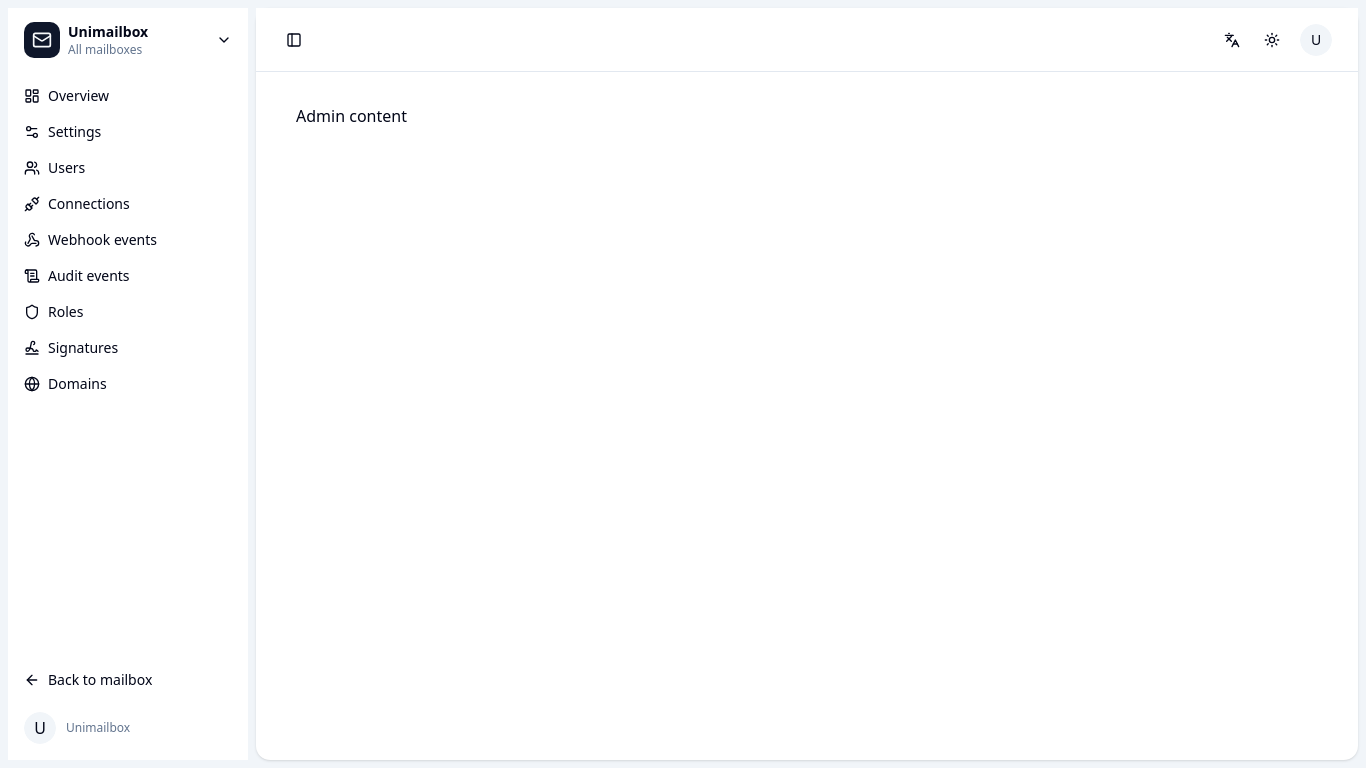
Scenario: application layouts (CAP-A2) › provides an independent admin navigation surface around page content
Expected: the text "Admin content" is shown, [296,105,407,127]
Expected: the navigation bar named "Administration navigation" is shown, [24,86,157,393]
What coordinates should you click on to do the following:
click the button named "Account menu"
I would click on:
 (1316, 40)
Its box is [1298,22,1334,58].
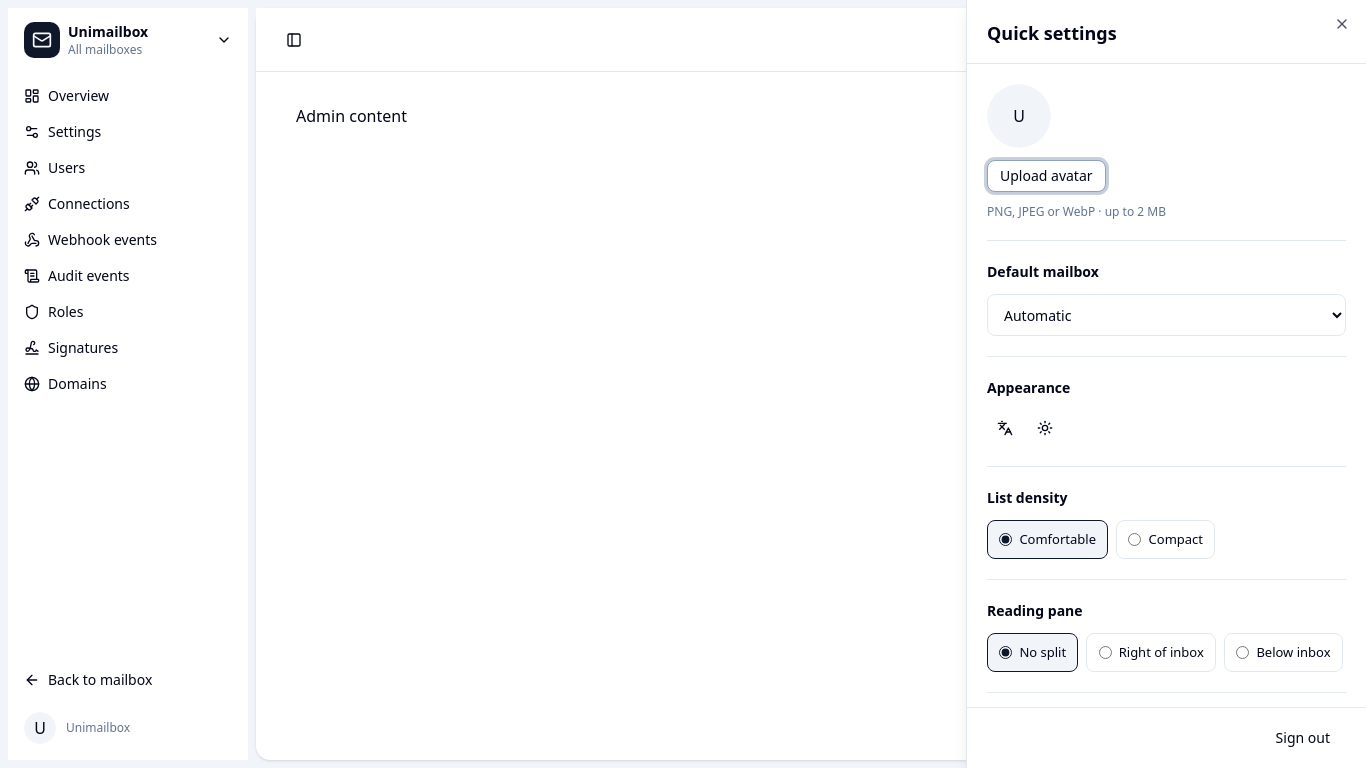
Expected: the button with test id "logout-button" is shown, [1260,720,1346,756]
